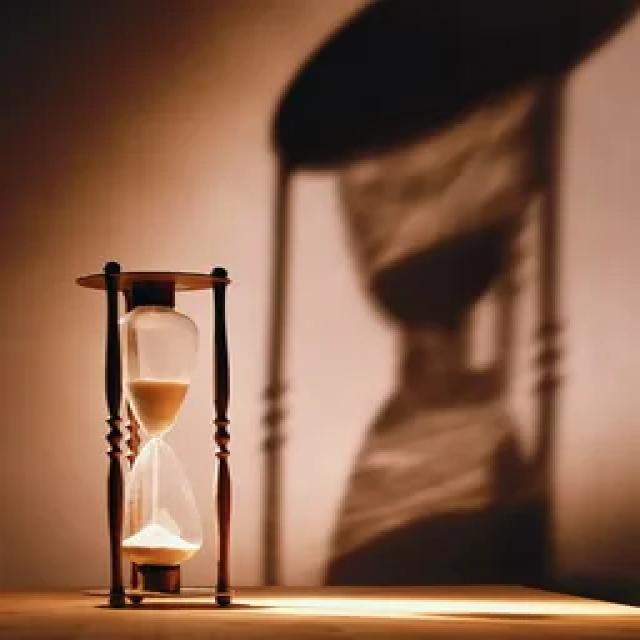clock: (80, 249, 248, 617)
